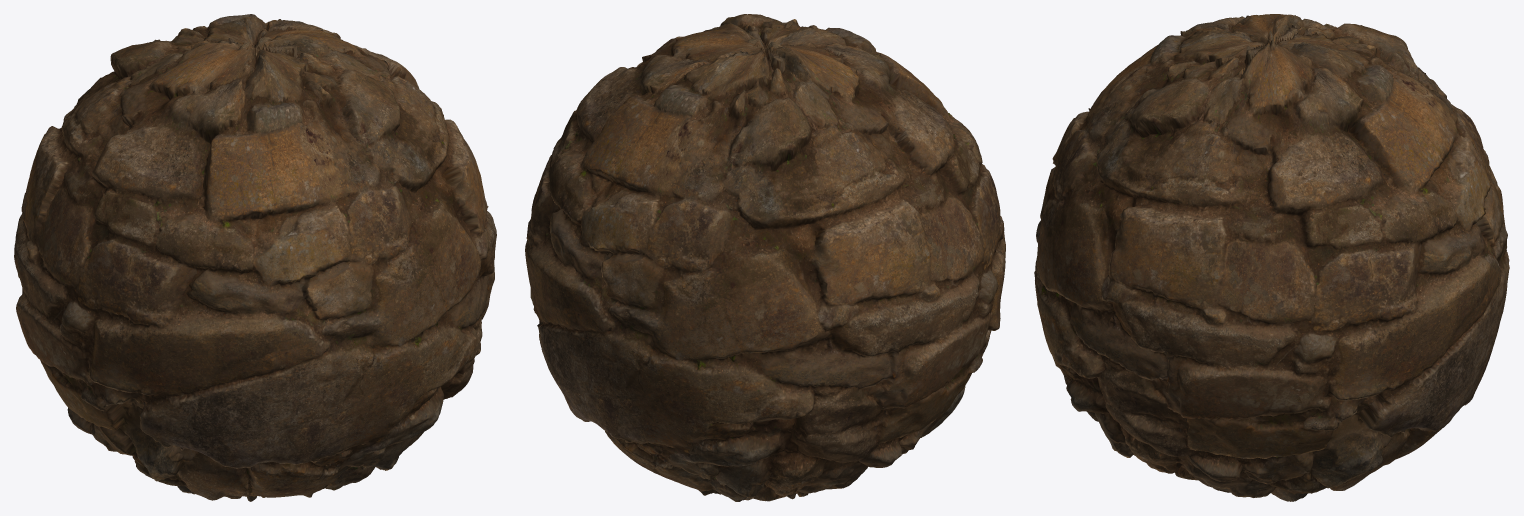
The model's file is rock_wall_10_2k.gltf.
The picture shows the model from 3 angles, left to right: view 1: azimuth 30°, elevation 25°; view 2: azimuth 150°, elevation 25°; view 3: azimuth 270°, elevation 25°; orthographic projection.
Visible parts, largest first — view 1: sphere_gltf; view 2: sphere_gltf; view 3: sphere_gltf.
Boxes of the visible parts, bbox=[...] form: sphere_gltf: bbox=[14, 14, 496, 501]; sphere_gltf: bbox=[525, 14, 1005, 501]; sphere_gltf: bbox=[1034, 14, 1509, 501].
Bounding box in the file's own units: 1.92 × 1.93 × 1.88.
1 material, 1 textured.
